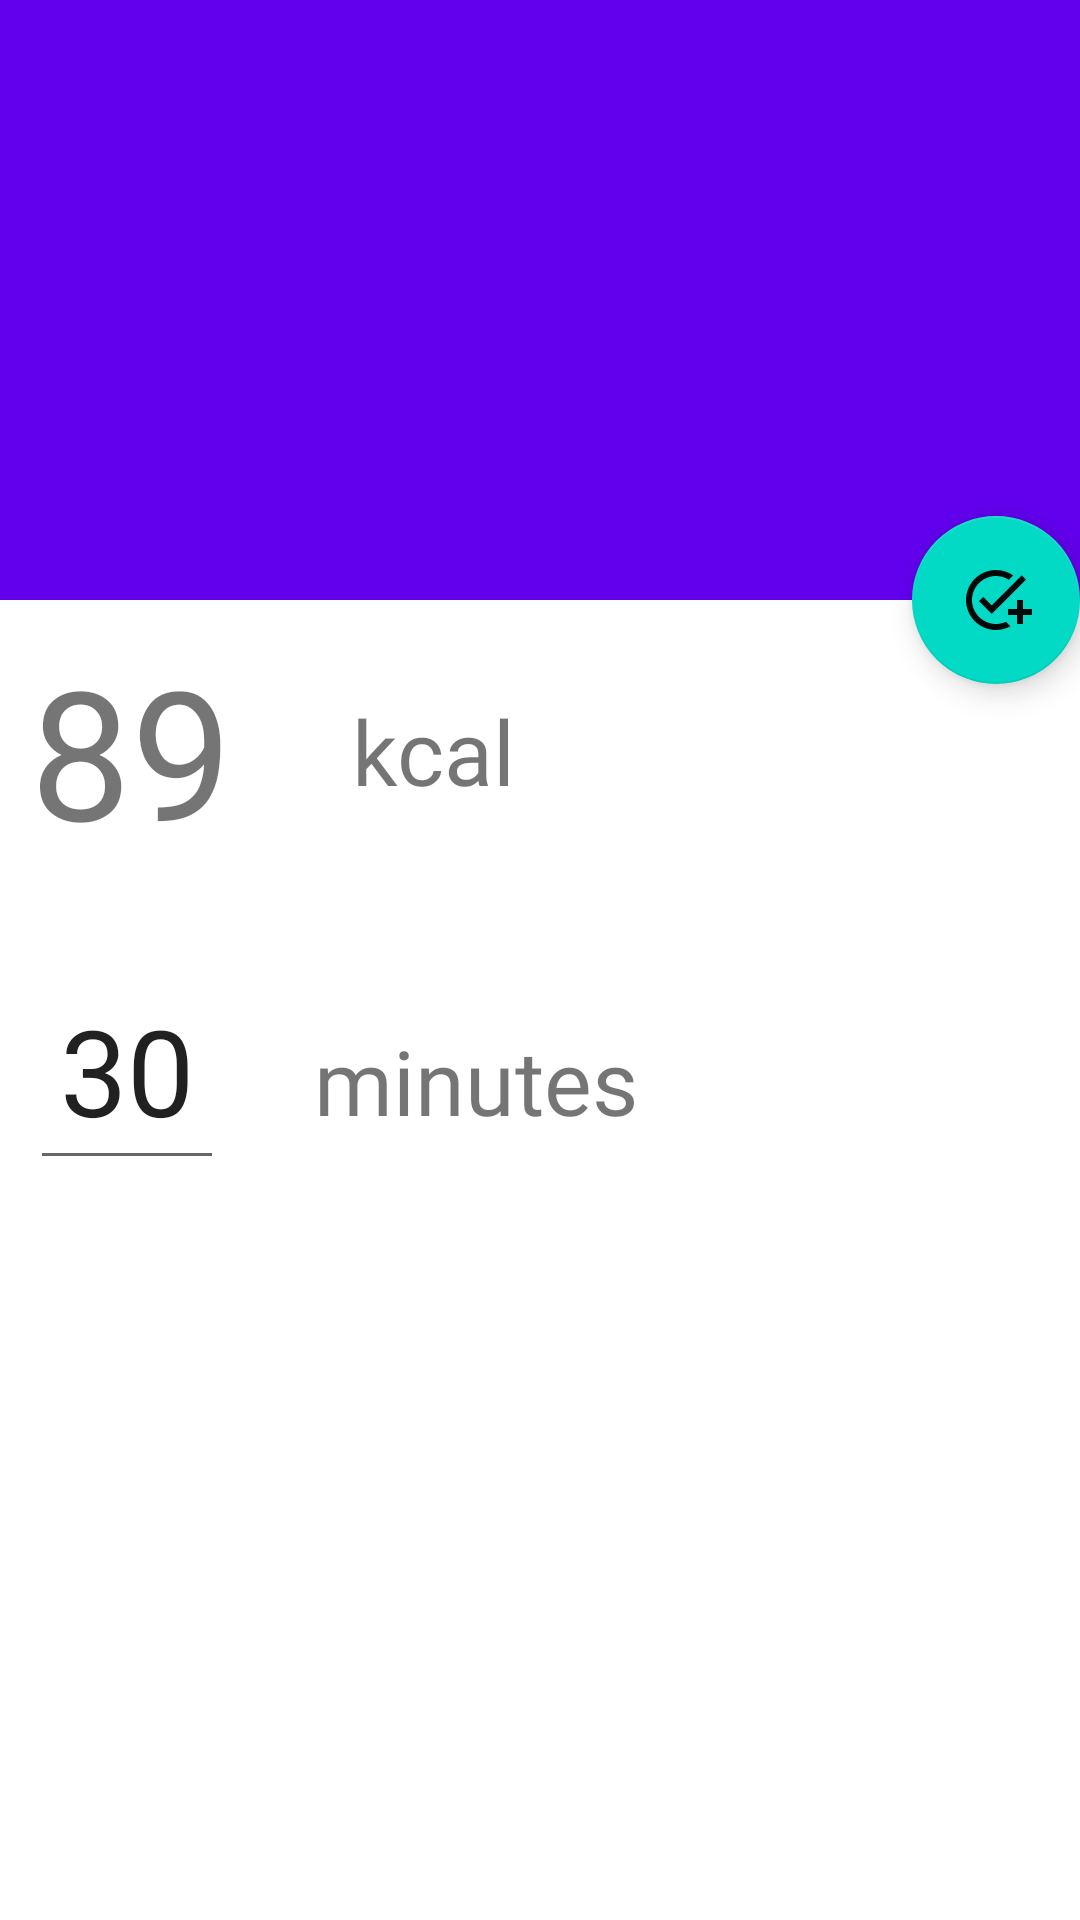

Where to tap for icons on this 1080px x 1920px app screen, as (x=x, y=y):
add task: (x=996, y=600)
